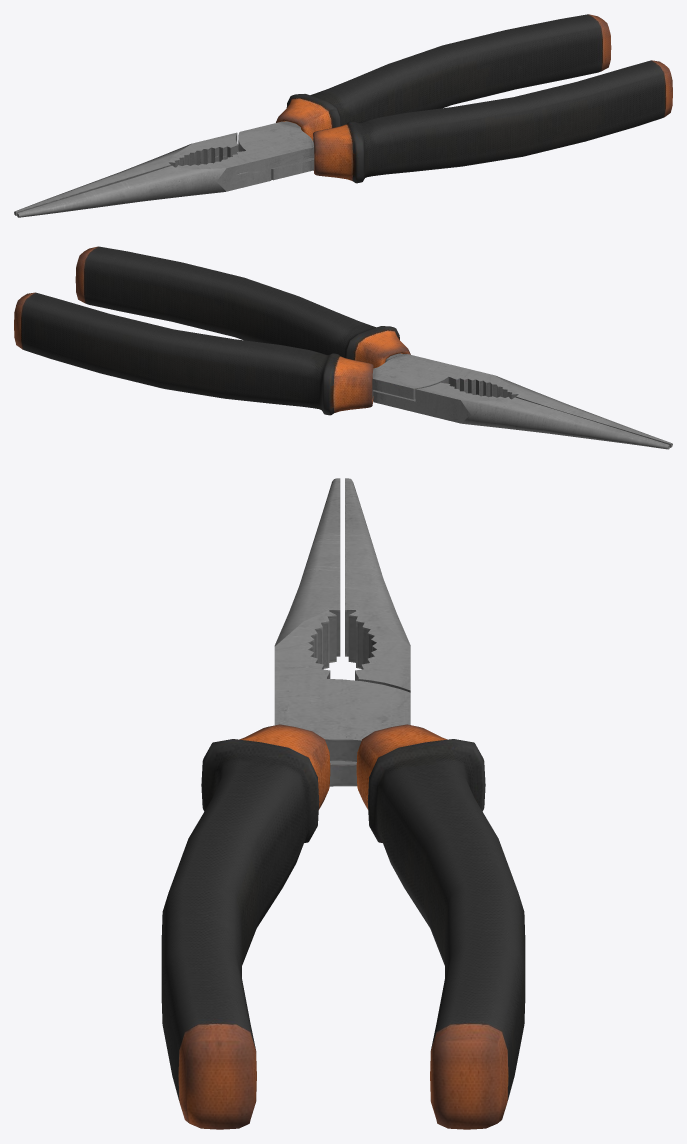
File: long_pliers.glb
3 views of the same model, one above another, from view 1: azimuth 30°, elevation 25°; view 2: azimuth 150°, elevation 25°; view 3: azimuth 270°, elevation 25° (orthographic). The views are drawn at different scales.
Parts seen in each view (by area): view 1: long_pliers; view 2: long_pliers; view 3: long_pliers.
Boxes of the visible parts, x1=… form: long_pliers: x1=14, y1=14, x2=672, y2=217; long_pliers: x1=14, y1=246, x2=672, y2=449; long_pliers: x1=161, y1=478, x2=525, y2=1129.
Bounding box in the file's own units: 0.552 × 0.0456 × 0.1402.
1 material, 1 textured.
